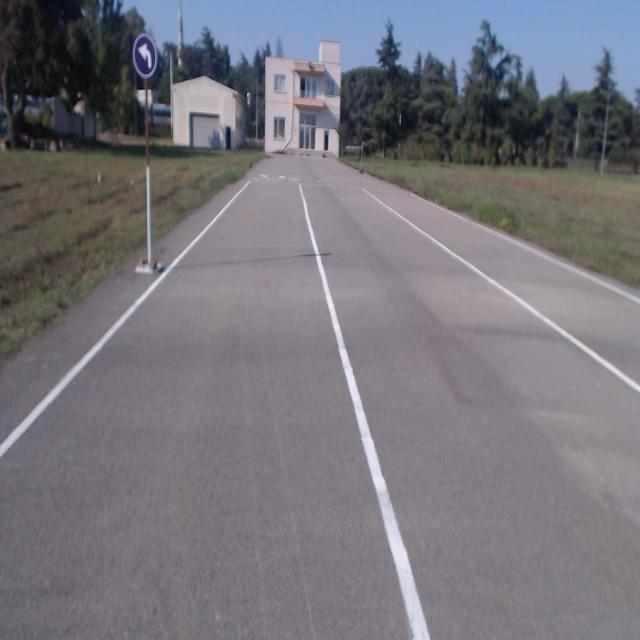sol: (133, 33, 157, 78)
